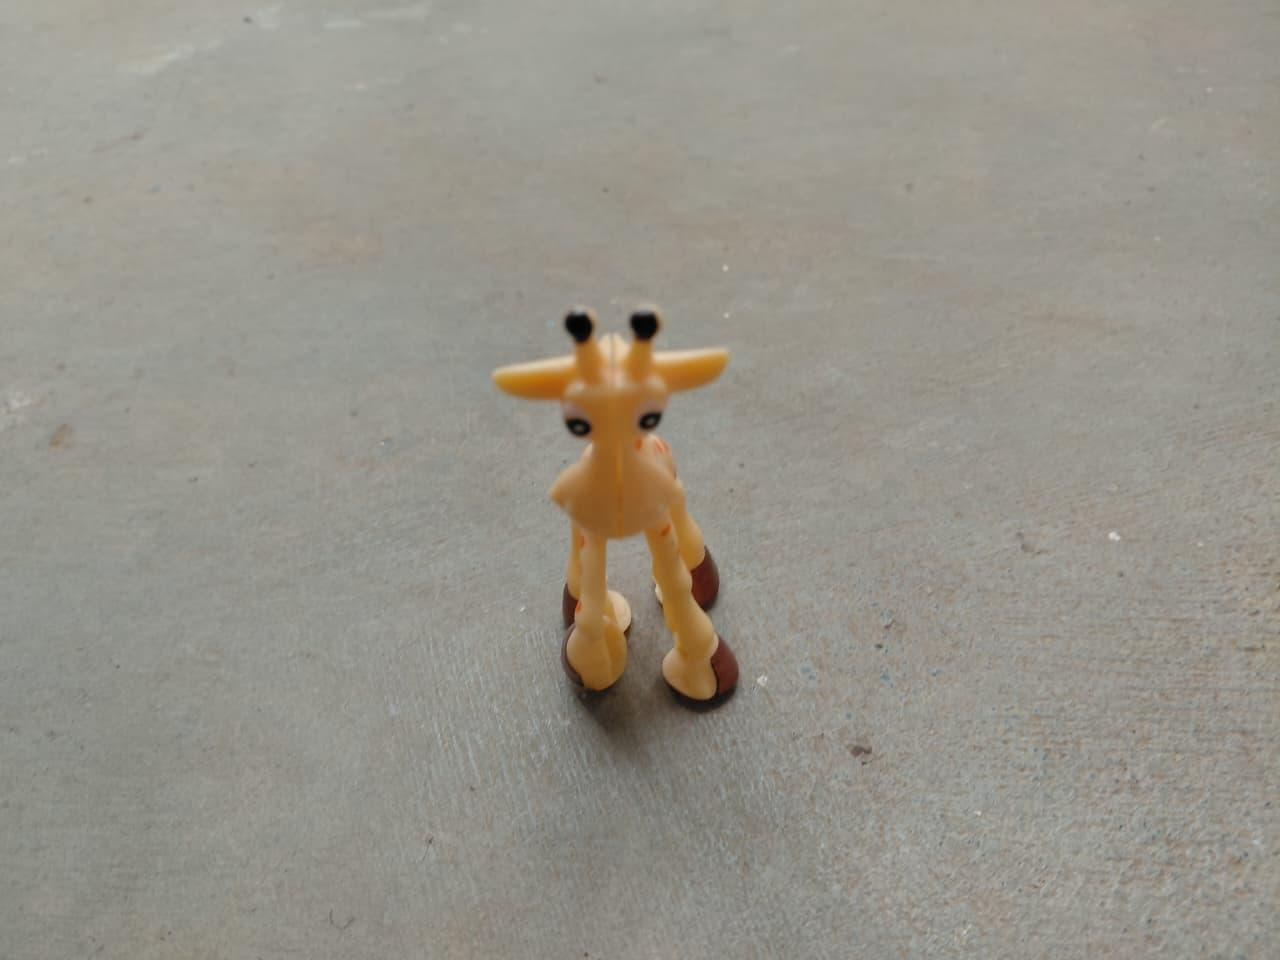giraffe: (480, 272, 801, 733)
